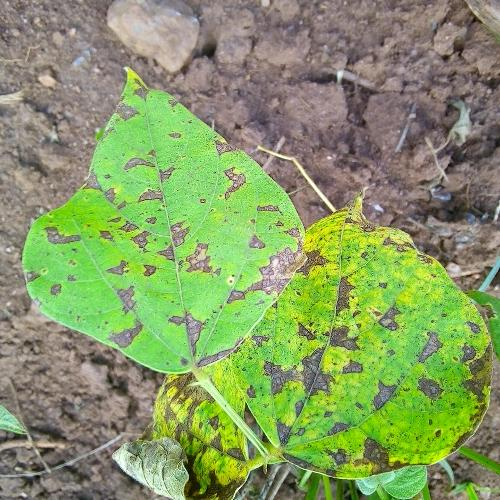hawar: (34, 269, 495, 500), (76, 140, 301, 264)
